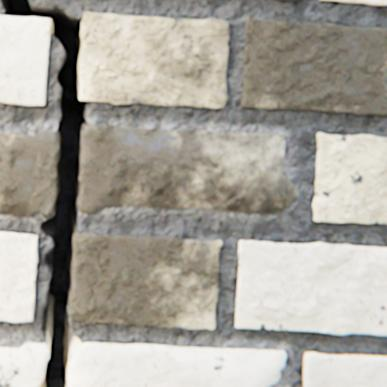brick: (69, 230, 221, 328), (79, 12, 228, 108), (235, 240, 386, 334), (240, 18, 386, 115), (311, 132, 386, 223), (0, 16, 51, 105), (0, 231, 37, 321), (302, 351, 386, 386), (319, 0, 386, 5), (275, 0, 301, 1)
broken_brick: (78, 124, 297, 212), (68, 340, 285, 386), (0, 130, 59, 217), (0, 341, 49, 386)
crack: (0, 0, 87, 386)
